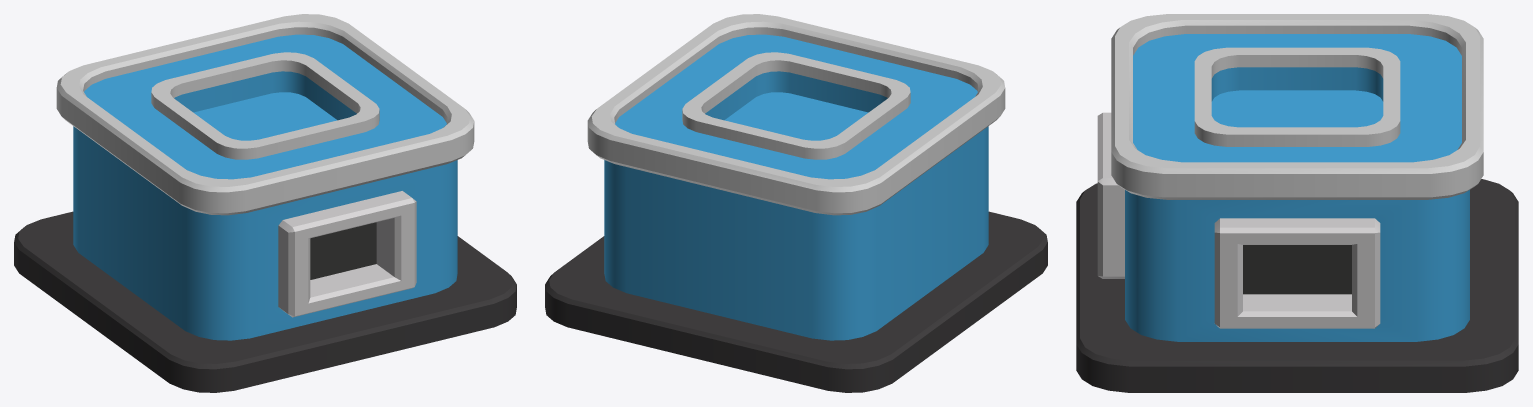
The model's file is Sawmill_Destroyed.fbx.
The picture shows the model from 3 angles, left to right: view 1: azimuth 30°, elevation 25°; view 2: azimuth 150°, elevation 25°; view 3: azimuth 270°, elevation 25°; orthographic projection. The views are drawn at different scales.
Visible parts, largest first — view 1: Sawmill_Destroyed; view 2: Sawmill_Destroyed; view 3: Sawmill_Destroyed.
Part boxes in pixels (<box>): Sawmill_Destroyed: <box>14,14,516,392</box>; Sawmill_Destroyed: <box>545,14,1047,392</box>; Sawmill_Destroyed: <box>1076,14,1518,392</box>.
Size of the model in its own units: 4.85 by 2.52 by 4.85.
Materials: 1 (1 with a texture image).
